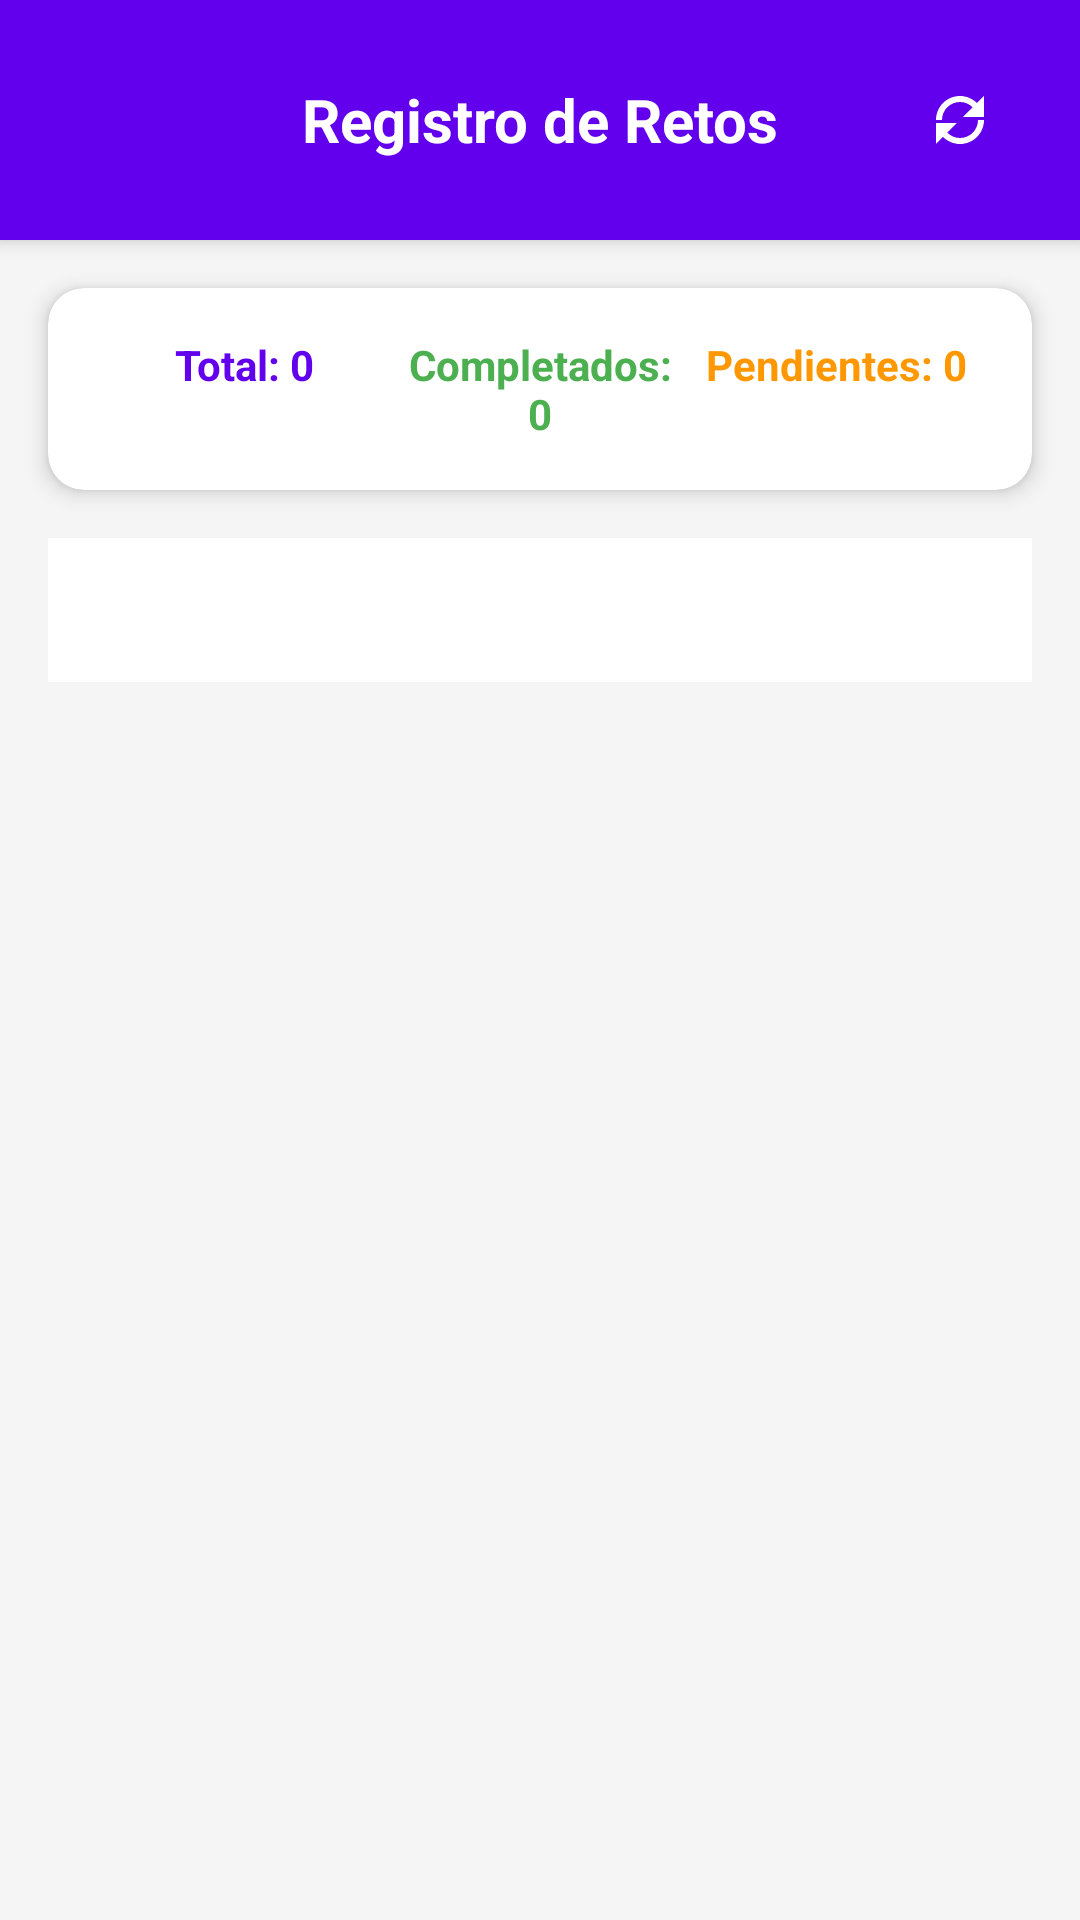

Where to tap for icons on this 1080px x 1920px app screen, as (x=x, y=y):
Actualizar: (x=960, y=120)
